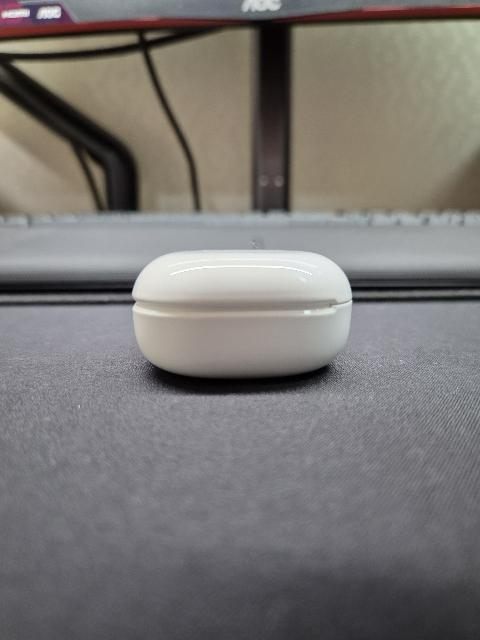earphone_case: (132, 248, 353, 378)
